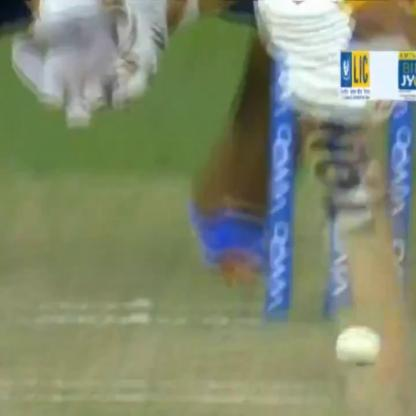ball: (333, 329, 378, 367)
bat: (296, 76, 416, 404)
